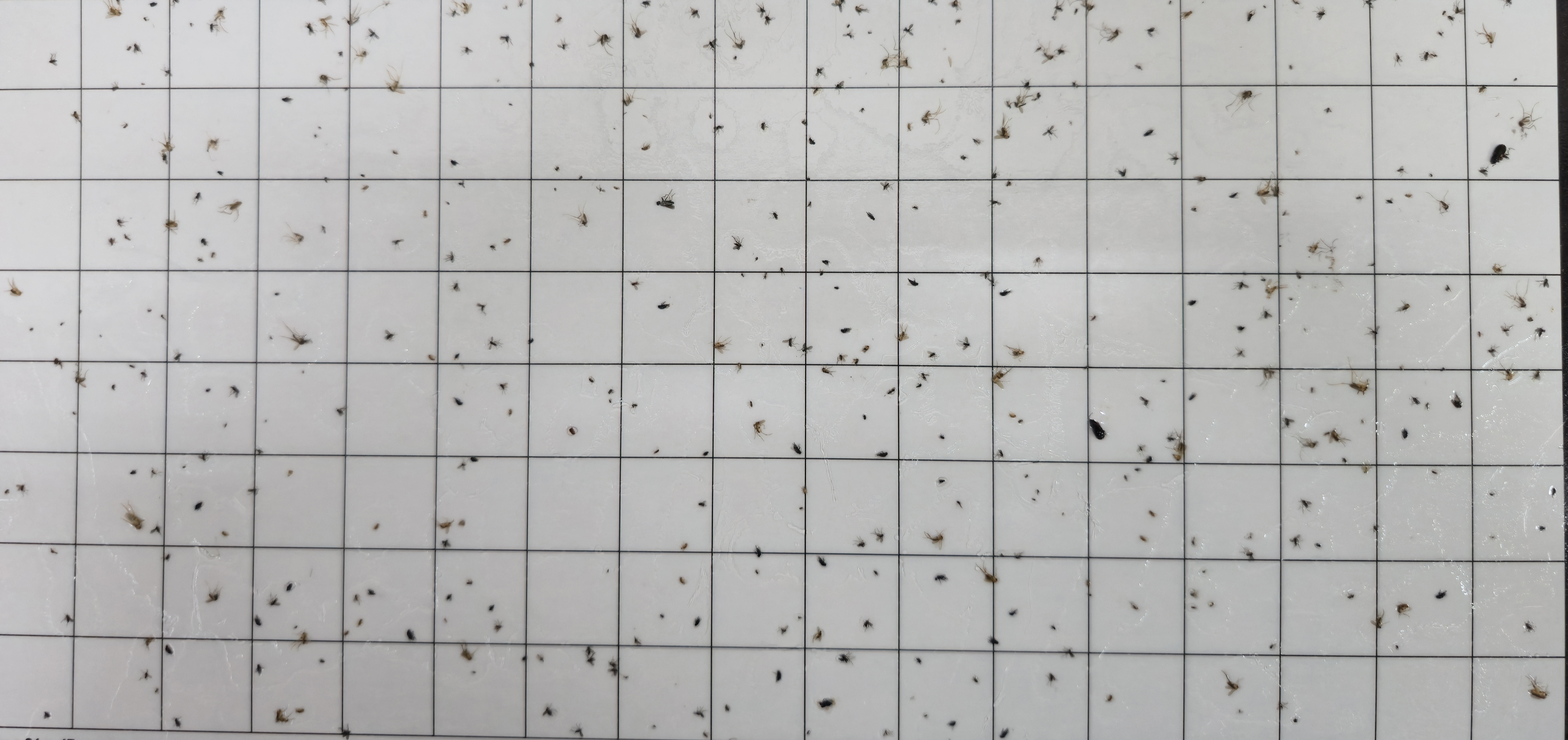test: (283, 324, 313, 351), (121, 502, 146, 532), (1487, 141, 1514, 166), (1517, 108, 1542, 134), (384, 68, 407, 95), (990, 365, 1014, 389), (653, 188, 678, 211), (217, 198, 244, 219), (1528, 676, 1550, 701), (627, 15, 649, 40), (1345, 376, 1371, 396), (994, 113, 1011, 142), (751, 419, 772, 442), (1088, 417, 1108, 441), (1224, 670, 1241, 698), (1326, 427, 1348, 447), (1478, 22, 1496, 46), (919, 109, 943, 126), (1264, 281, 1285, 300), (1508, 291, 1528, 310), (318, 16, 338, 35), (711, 337, 733, 354), (104, 1, 123, 20), (343, 7, 361, 27), (1297, 435, 1320, 450), (980, 566, 999, 584), (925, 530, 944, 548), (459, 643, 476, 663), (1013, 92, 1029, 113), (274, 708, 292, 726), (594, 33, 613, 50), (572, 209, 589, 227), (158, 134, 175, 152), (1256, 185, 1272, 204), (1103, 27, 1122, 43), (7, 277, 22, 297), (1172, 440, 1186, 461), (438, 519, 455, 535), (1501, 364, 1517, 381), (1261, 367, 1279, 382), (1371, 613, 1386, 630), (895, 325, 910, 342), (487, 335, 504, 350), (353, 47, 369, 62), (731, 35, 746, 51), (1237, 89, 1254, 103), (622, 91, 636, 108), (213, 6, 227, 23), (1006, 345, 1024, 358), (205, 137, 220, 152), (1394, 601, 1410, 615), (1437, 198, 1451, 214), (74, 373, 88, 389), (782, 335, 799, 348), (896, 56, 913, 69), (819, 695, 833, 710), (1396, 300, 1411, 314), (165, 217, 179, 232), (703, 38, 718, 52), (297, 630, 310, 646), (873, 529, 886, 545), (731, 235, 744, 251), (1452, 1, 1465, 17), (288, 231, 305, 243), (318, 74, 335, 86), (1449, 394, 1463, 408), (541, 705, 556, 718), (460, 0, 473, 15), (879, 56, 892, 71), (791, 440, 803, 456), (755, 2, 767, 18), (854, 4, 870, 16), (207, 590, 221, 603), (1300, 497, 1313, 511), (958, 337, 971, 351), (1042, 124, 1056, 137), (367, 27, 380, 41), (687, 7, 701, 20), (1041, 52, 1055, 65), (1168, 150, 1180, 165), (1270, 183, 1282, 198), (799, 342, 814, 354), (879, 180, 894, 192), (229, 384, 241, 399), (71, 110, 83, 125), (1083, 0, 1095, 15), (838, 652, 851, 665), (813, 65, 826, 78), (143, 634, 155, 648), (811, 627, 823, 641), (1435, 588, 1449, 600), (1368, 326, 1382, 338), (1491, 262, 1505, 274), (305, 22, 317, 36), (832, 0, 844, 14), (903, 23, 915, 37), (1234, 280, 1249, 291), (821, 366, 836, 377), (150, 524, 163, 536), (693, 707, 706, 719), (854, 536, 866, 549), (998, 727, 1010, 740), (1523, 621, 1536, 633), (1537, 276, 1550, 288), (1501, 324, 1513, 337), (1260, 308, 1273, 320), (1142, 127, 1155, 139), (557, 38, 569, 51), (1052, 1, 1064, 14), (392, 238, 406, 249), (499, 35, 513, 46), (1146, 25, 1157, 39), (999, 288, 1014, 298), (1192, 174, 1207, 184), (816, 556, 828, 568), (1487, 346, 1499, 358), (1534, 326, 1546, 338), (384, 329, 396, 341), (193, 500, 204, 513), (862, 618, 873, 631), (1283, 415, 1296, 426), (1476, 166, 1489, 177), (1139, 395, 1150, 408), (907, 277, 920, 288), (1392, 53, 1403, 66), (192, 191, 203, 204), (48, 52, 59, 65), (444, 250, 455, 263), (406, 628, 416, 642), (341, 726, 351, 740), (1180, 10, 1194, 20), (656, 301, 671, 310), (15, 482, 26, 494), (269, 596, 281, 607), (574, 725, 585, 737), (566, 425, 578, 436), (1129, 601, 1140, 613), (1290, 535, 1302, 546), (1399, 428, 1410, 440), (630, 279, 641, 291), (712, 125, 724, 136), (476, 302, 487, 314), (131, 43, 143, 54), (1245, 550, 1255, 563), (1531, 368, 1541, 381), (1316, 8, 1326, 21), (62, 613, 73, 624), (247, 485, 258, 496), (583, 645, 594, 656), (458, 517, 469, 528), (457, 460, 468, 471), (1308, 243, 1319, 254), (1117, 167, 1128, 178), (836, 353, 847, 364), (865, 210, 876, 221), (208, 23, 219, 34), (462, 45, 473, 56), (764, 15, 775, 26), (253, 615, 263, 627), (774, 670, 784, 682), (934, 573, 949, 581), (988, 637, 1000, 647), (53, 357, 63, 369), (160, 153, 170, 165), (1021, 79, 1031, 91), (255, 662, 264, 675), (980, 270, 993, 279), (448, 9, 461, 18), (989, 199, 1002, 208), (48, 546, 59, 556), (165, 645, 175, 656), (285, 581, 295, 592), (881, 728, 892, 738), (1144, 455, 1154, 466), (1235, 348, 1245, 359), (1421, 50, 1431, 61), (886, 386, 897, 396), (769, 212, 780, 222), (499, 381, 509, 392), (139, 370, 149, 381), (282, 95, 293, 105), (834, 80, 844, 91), (951, 0, 961, 11), (1034, 91, 1044, 102), (1228, 191, 1240, 200), (116, 218, 128, 227), (843, 30, 855, 39), (1048, 672, 1056, 685), (172, 717, 182, 727), (221, 529, 231, 539), (372, 522, 382, 532), (586, 656, 596, 666), (610, 666, 620, 676), (920, 371, 930, 381), (336, 406, 346, 416), (163, 68, 173, 78), (295, 706, 306, 715), (693, 617, 702, 628), (1065, 648, 1076, 657), (1411, 396, 1420, 407), (1360, 465, 1371, 474), (1188, 392, 1197, 403), (1187, 298, 1198, 307), (1033, 256, 1044, 265), (640, 142, 651, 151), (452, 282, 461, 293), (641, 0, 652, 9), (755, 546, 763, 558), (877, 450, 889, 458), (200, 453, 209, 463), (255, 447, 264, 457), (367, 588, 377, 597), (678, 575, 687, 585), (469, 454, 479, 463), (915, 656, 924, 666), (1014, 552, 1024, 561), (1148, 510, 1157, 520), (954, 500, 964, 509), (988, 276, 997, 286), (927, 350, 937, 359), (173, 352, 182, 362), (111, 83, 120, 93), (149, 0, 159, 9), (990, 171, 999, 181), (1005, 100, 1014, 110), (356, 617, 364, 628), (352, 592, 360, 603), (494, 622, 502, 633), (1106, 694, 1114, 705), (1395, 165, 1406, 173), (997, 448, 1005, 459), (1133, 63, 1144, 71), (1247, 10, 1255, 21), (1550, 486, 1557, 498), (840, 327, 852, 334), (1362, 0, 1374, 7), (42, 710, 51, 719), (164, 553, 173, 562), (286, 468, 295, 477), (341, 629, 350, 638), (465, 578, 474, 587), (633, 636, 642, 645), (948, 719, 957, 728), (1008, 608, 1017, 617), (1476, 330, 1485, 339), (1385, 197, 1394, 206), (1478, 85, 1487, 94), (1236, 324, 1245, 333), (1245, 531, 1254, 540), (808, 137, 817, 146), (597, 185, 606, 194), (760, 122, 769, 131), (454, 397, 463, 406), (555, 15, 564, 24), (959, 154, 968, 163), (811, 86, 820, 95), (149, 468, 159, 476), (488, 603, 496, 613), (441, 539, 451, 547), (697, 500, 707, 508), (872, 568, 880, 578), (1190, 590, 1198, 600), (1138, 534, 1148, 542), (1444, 284, 1452, 294), (936, 477, 946, 485), (862, 344, 870, 354), (506, 407, 514, 417), (123, 233, 131, 243), (450, 159, 460, 167), (972, 137, 982, 145), (928, 0, 938, 8), (1057, 46, 1065, 56), (1446, 15, 1456, 23), (681, 541, 688, 552), (1190, 537, 1197, 548), (3, 487, 11, 496), (319, 657, 327, 666), (128, 468, 137, 476), (537, 654, 545, 663), (701, 730, 709, 739), (779, 626, 788, 634), (1538, 524, 1547, 532), (1526, 316, 1534, 325), (1404, 192, 1413, 200), (1137, 443, 1145, 452), (1166, 434, 1175, 442), (1295, 270, 1303, 279), (428, 353, 436, 362), (458, 180, 466, 189), (143, 670, 150, 680), (446, 592, 453, 602), (1084, 578, 1091, 588), (1089, 315, 1099, 322), (1189, 206, 1199, 213), (503, 237, 513, 244), (422, 209, 429, 219), (906, 121, 912, 132), (521, 655, 529, 663), (723, 704, 731, 712), (1278, 701, 1286, 709), (1208, 601, 1216, 609), (1190, 603, 1198, 611), (1347, 591, 1355, 599), (1394, 643, 1402, 651), (1431, 468, 1439, 476), (1371, 524, 1379, 532), (1355, 193, 1363, 201), (1008, 412, 1016, 420), (1293, 149, 1301, 157), (489, 244, 497, 252), (200, 238, 208, 246), (216, 169, 224, 177), (125, 44, 133, 52), (528, 61, 536, 69), (608, 659, 617, 666), (795, 613, 804, 620), (971, 677, 980, 684), (1314, 542, 1323, 549), (1341, 457, 1348, 466), (1323, 107, 1332, 114), (736, 362, 743, 371), (779, 267, 786, 276), (821, 259, 830, 266), (320, 225, 327, 234), (361, 184, 370, 191), (1004, 180, 1013, 187), (518, 0, 524, 10), (292, 623, 299, 631), (443, 616, 450, 624), (623, 673, 630, 681), (754, 568, 761, 576), (805, 729, 812, 737), (922, 712, 930, 719), (1268, 643, 1275, 651), (1488, 491, 1496, 498), (1308, 386, 1315, 394), (1134, 466, 1142, 473), (852, 357, 859, 365), (911, 204, 919, 211), (806, 200, 813, 208), (528, 338, 535, 346), (210, 251, 217, 259), (108, 238, 116, 245), (121, 122, 129, 129), (659, 611, 665, 620), (1488, 535, 1497, 541), (801, 486, 807, 495), (1073, 7, 1079, 16), (1050, 624, 1057, 631), (1237, 708, 1244, 715), (1259, 276, 1266, 283), (938, 434, 945, 441), (1031, 496, 1038, 503), (1083, 364, 1090, 371), (915, 382, 922, 389), (588, 377, 595, 384), (607, 388, 614, 395), (801, 119, 808, 126), (129, 363, 136, 370), (392, 149, 399, 156), (337, 50, 344, 57), (954, 18, 961, 25), (1035, 45, 1042, 52), (1438, 30, 1445, 37), (1122, 473, 1128, 481), (1287, 296, 1295, 302), (454, 352, 460, 360), (111, 383, 117, 391), (858, 107, 866, 113), (154, 687, 160, 694), (605, 567, 611, 574), (1439, 367, 1446, 373), (1512, 76, 1519, 82), (1017, 417, 1023, 424), (1282, 210, 1288, 217), (653, 448, 660, 454), (205, 387, 211, 394), (160, 314, 166, 321), (197, 256, 204, 262), (1506, 0, 1513, 6), (652, 723, 658, 729), (1087, 592, 1093, 598), (1293, 717, 1299, 723), (1201, 569, 1207, 575), (1398, 365, 1404, 371), (1370, 261, 1376, 267), (1024, 473, 1030, 479), (805, 176, 811, 182), (268, 335, 274, 341), (59, 321, 65, 327), (77, 309, 83, 315), (323, 177, 329, 183), (360, 173, 366, 179), (503, 5, 509, 11), (845, 23, 851, 29), (1167, 0, 1173, 6), (1051, 15, 1057, 21), (1293, 0, 1299, 6), (1431, 53, 1437, 59), (1424, 402, 1429, 409), (1160, 378, 1167, 383), (702, 451, 709, 456), (819, 269, 824, 276), (613, 185, 620, 190), (578, 174, 583, 181), (28, 327, 35, 332), (275, 290, 280, 297), (1072, 81, 1077, 88), (1441, 9, 1446, 16), (749, 400, 753, 408), (763, 273, 767, 281), (471, 669, 477, 674), (1360, 418, 1365, 424), (1428, 171, 1434, 176), (1035, 489, 1041, 494), (632, 403, 637, 409), (555, 166, 560, 172), (223, 422, 228, 428), (98, 333, 103, 339), (344, 86, 350, 91), (143, 16, 148, 22), (733, 55, 738, 61), (867, 30, 873, 35), (939, 78, 945, 83), (1288, 64, 1293, 70), (833, 286, 840, 290), (1277, 243, 1282, 248), (608, 399, 613, 404), (754, 256, 759, 261), (740, 273, 745, 278), (182, 464, 187, 469), (146, 308, 151, 313), (317, 125, 322, 130), (508, 102, 513, 107), (385, 2, 390, 7), (1262, 4, 1267, 9), (863, 414, 867, 420), (760, 342, 764, 348), (709, 113, 713, 119), (553, 186, 557, 192), (798, 506, 804, 510), (72, 410, 76, 416), (141, 82, 147, 86), (314, 133, 318, 139), (264, 418, 268, 423), (301, 369, 305, 374), (189, 22, 193, 27), (446, 201, 450, 205), (613, 127, 616, 131)
